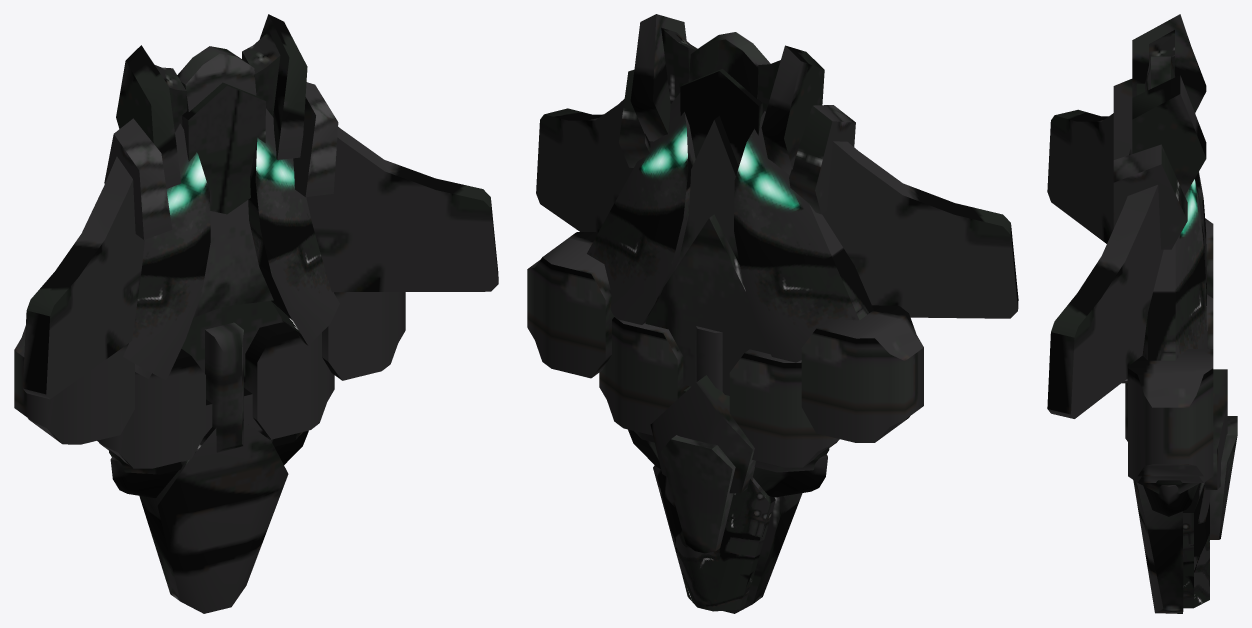
File: Chukk-Assault.fbx
3 views of the same model, side by side, from view 1: azimuth 30°, elevation 25°; view 2: azimuth 150°, elevation 25°; view 3: azimuth 270°, elevation 25° (orthographic). The views are drawn at different scales.
Parts seen in each view (by area): view 1: ship20g.129; view 2: ship20g.129; view 3: ship20g.129.
Boxes of the visible parts, box(x1,y1,x2,y2) form: ship20g.129: box(14, 14, 498, 613); ship20g.129: box(527, 14, 1018, 613); ship20g.129: box(1047, 14, 1237, 613).
Bounding box in the file's own units: 9741 × 11190 × 3431.
1 material, 1 textured.
